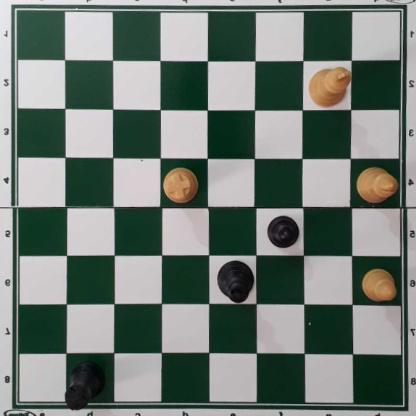black-king: (215, 261, 255, 305)
black-pawn: (267, 215, 299, 251)
black-rook: (64, 362, 106, 412)
white-bishop: (356, 165, 399, 204)
white-king: (308, 67, 351, 108)
white-pawn: (360, 269, 397, 304)
white-rook: (163, 167, 199, 204)
